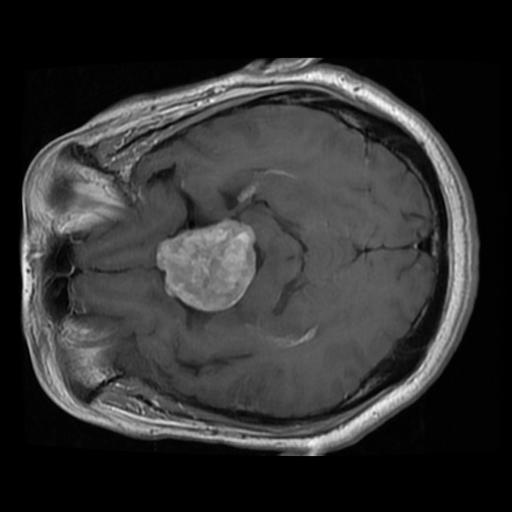pituitary tumour: (157, 219, 254, 310)
